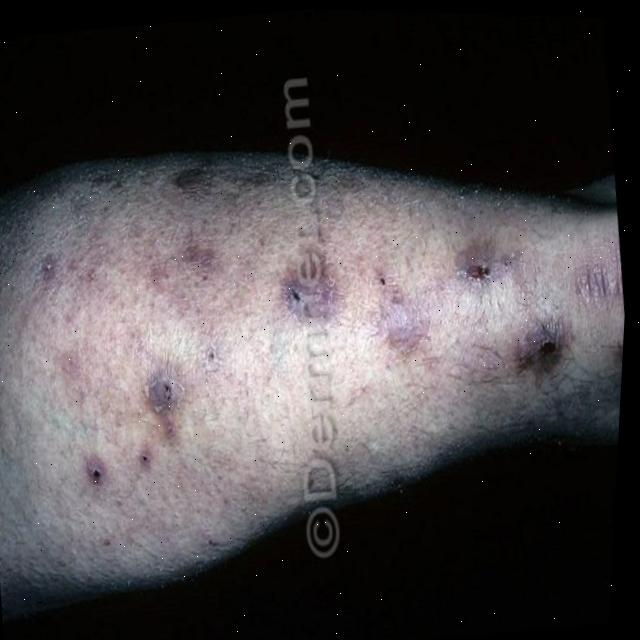Eczema: (128, 363, 197, 474), (368, 267, 437, 375), (277, 244, 351, 342), (504, 305, 575, 379), (447, 225, 516, 298), (81, 453, 116, 499)
